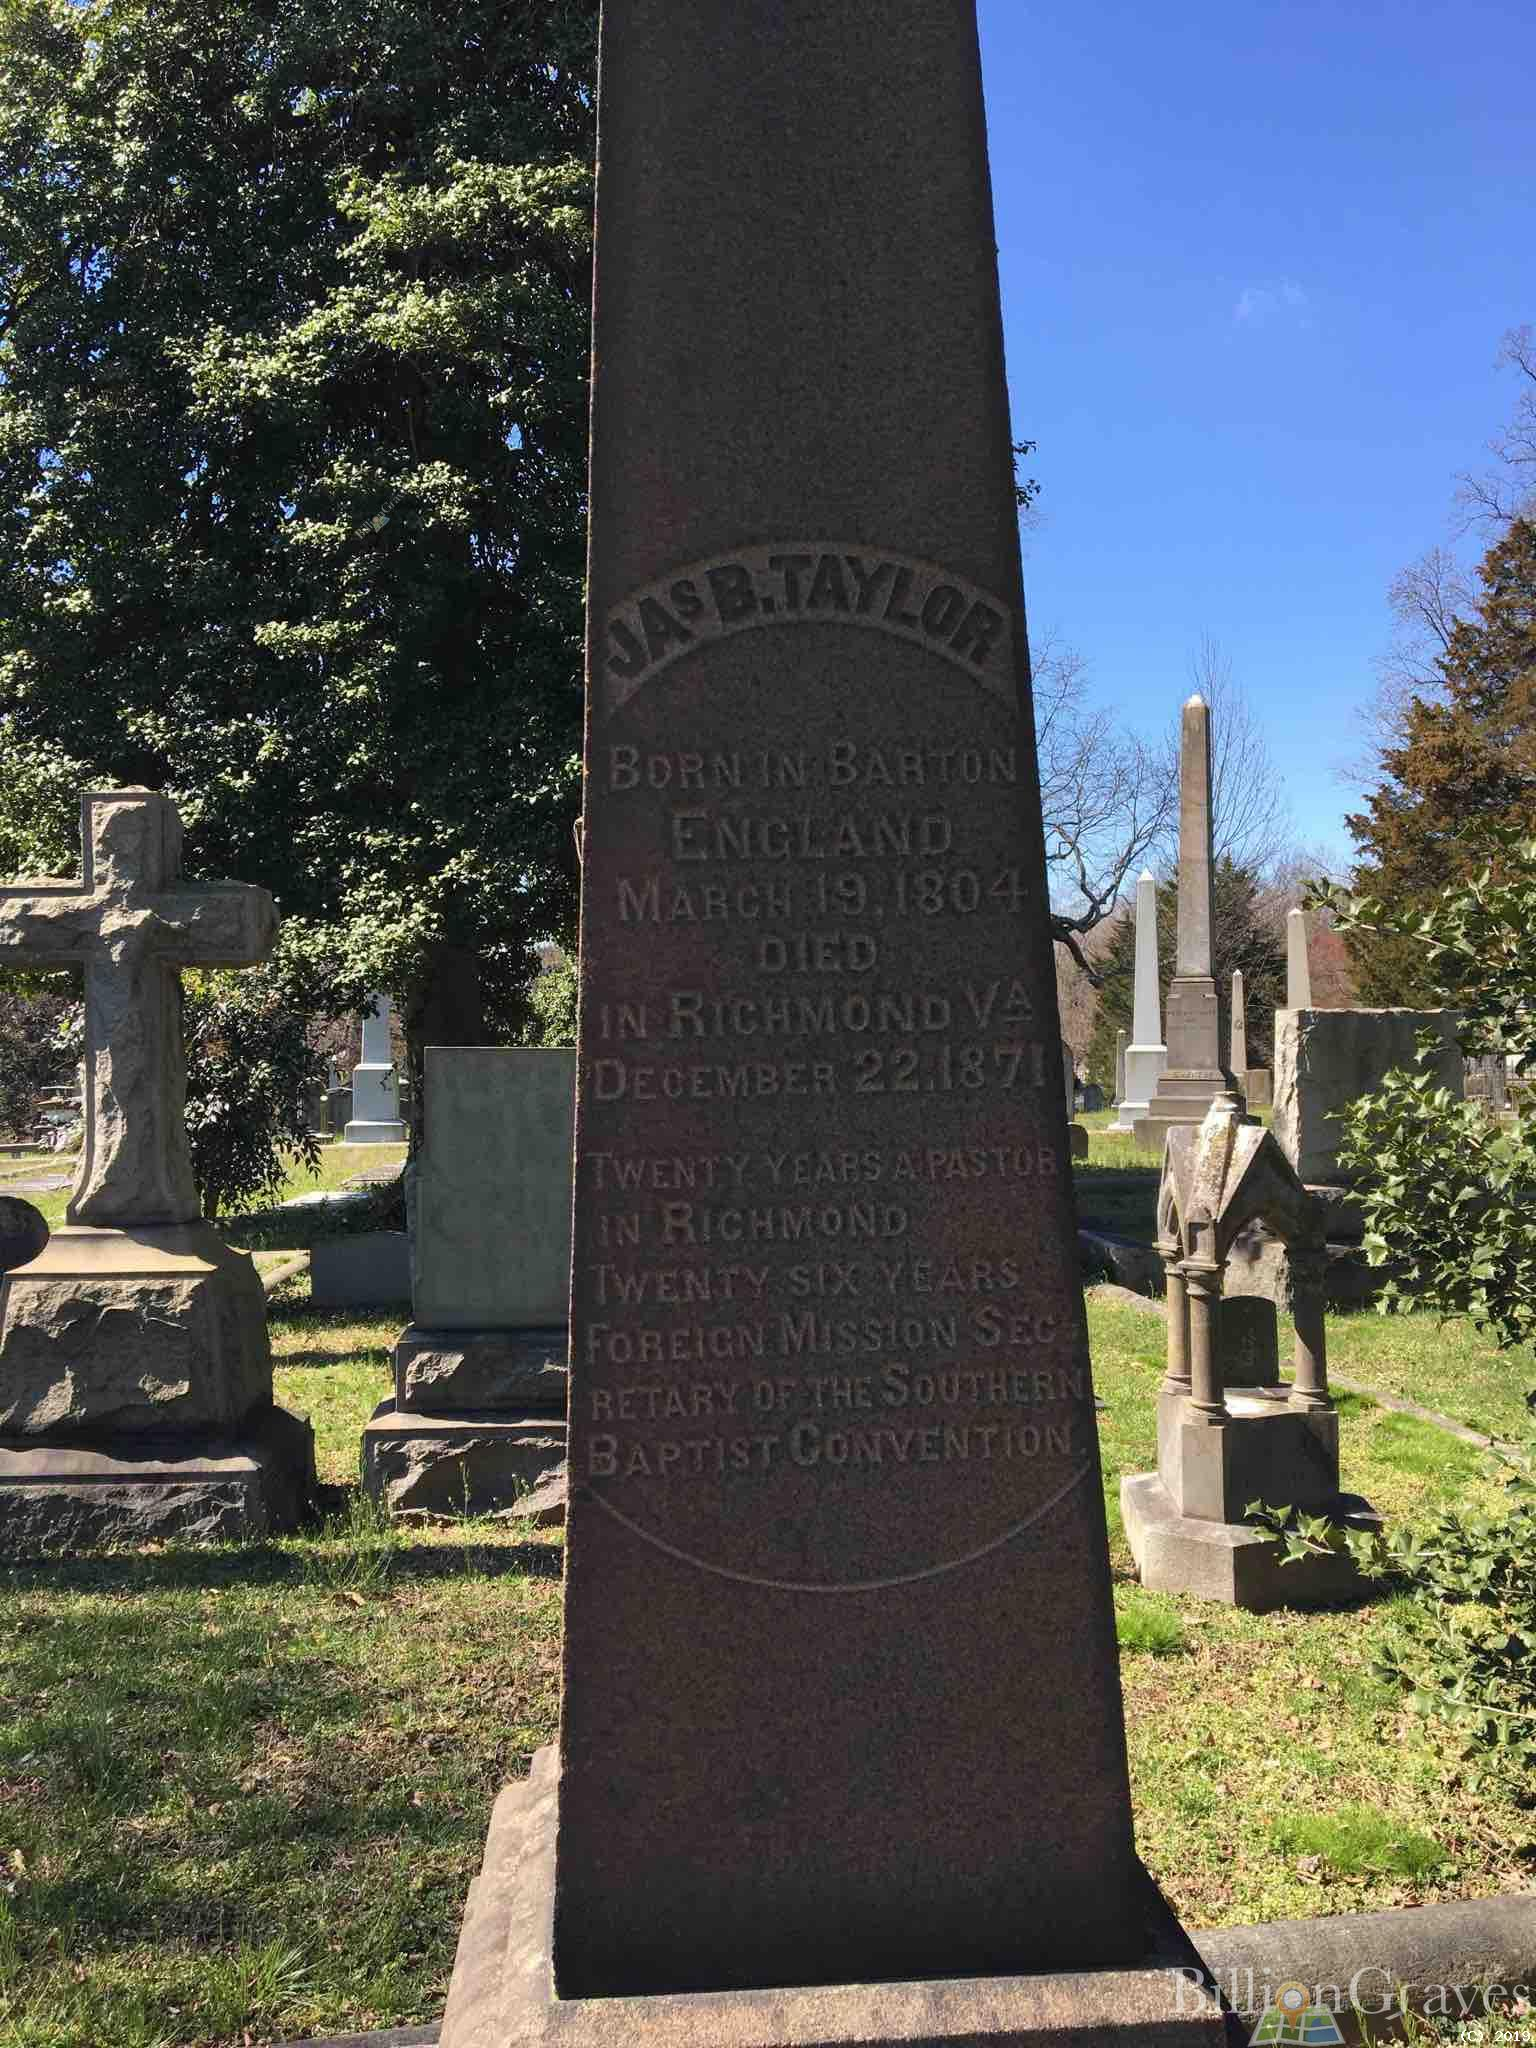obelisk: (563, 0, 1141, 1982)
